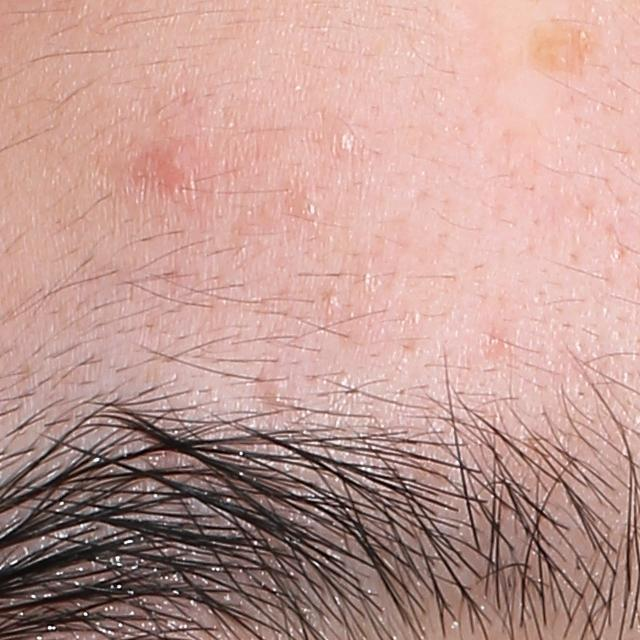comedo: (334, 133, 355, 155)
papule: (160, 147, 189, 186)
